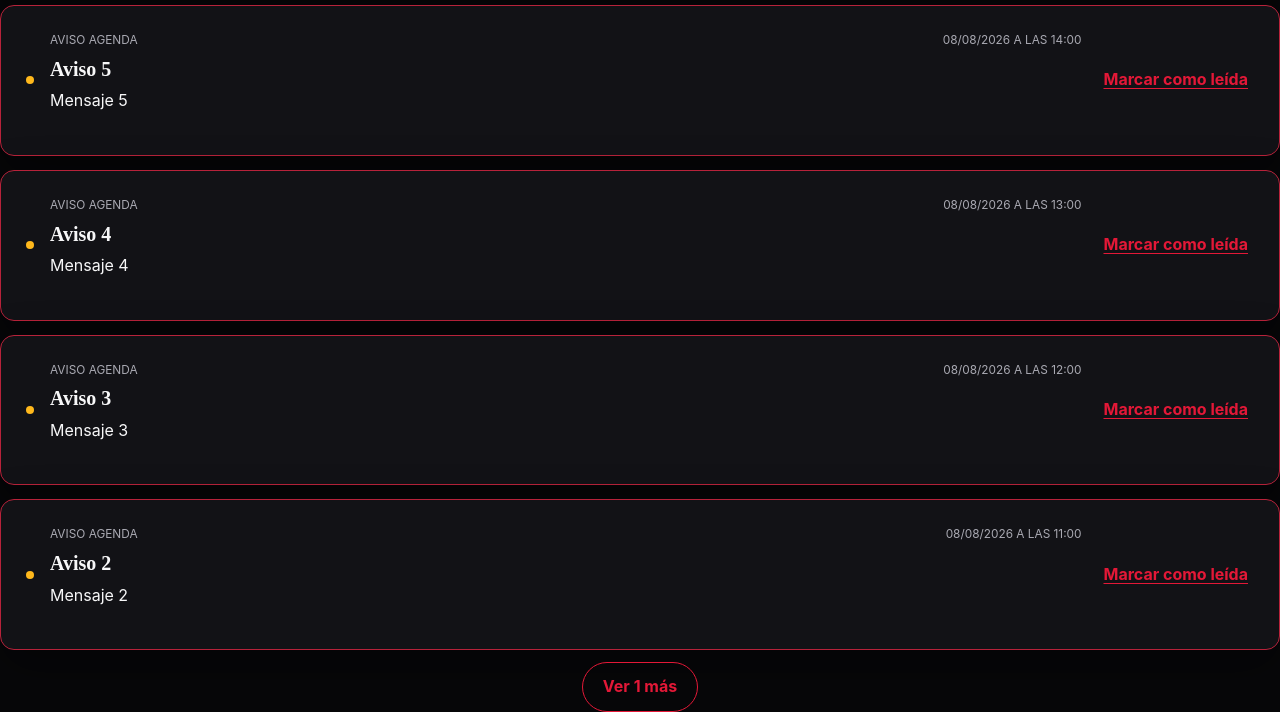
Test: administración › limita cada bloque a cinco notificaciones y permite plegarlo
The image size is (1280, 712).
(page scrolled)
Click the button "Ver 1 más": point(640, 687) [582,662,698,711]
(page scrolled)
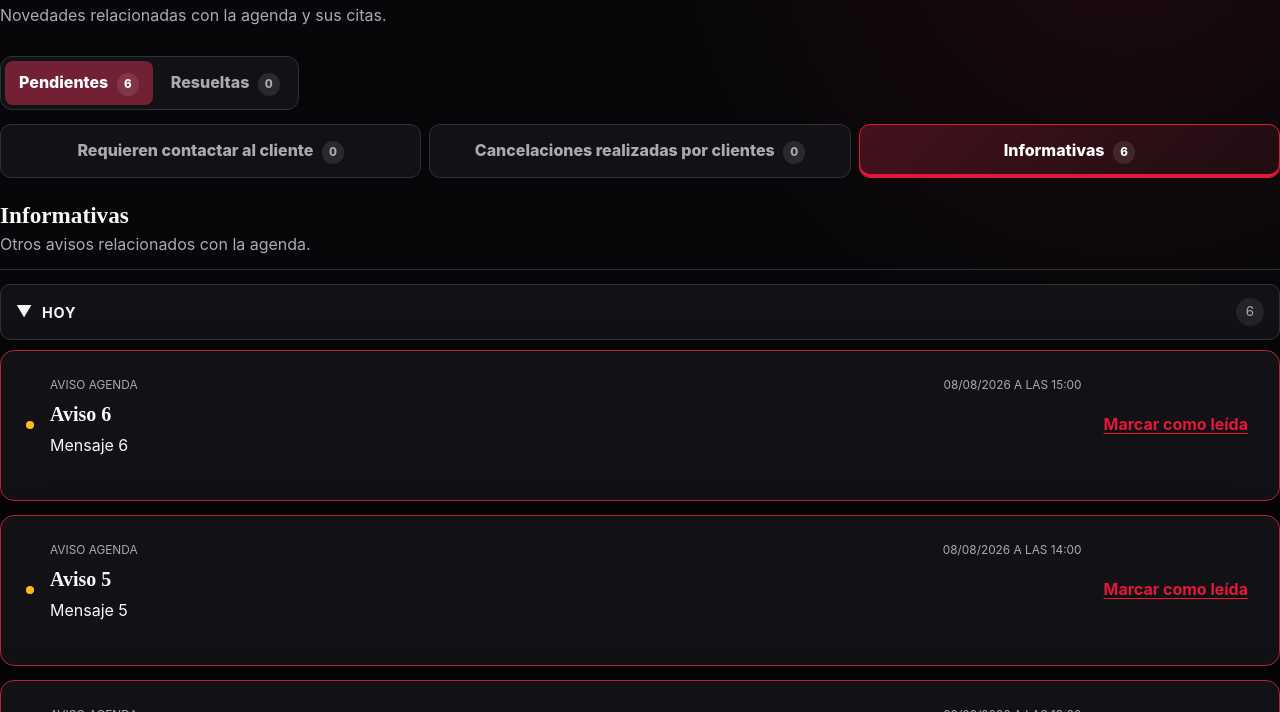
Click the button "▼ Hoy 6": point(59, 312) [0,284,1279,340]
(page scrolled)
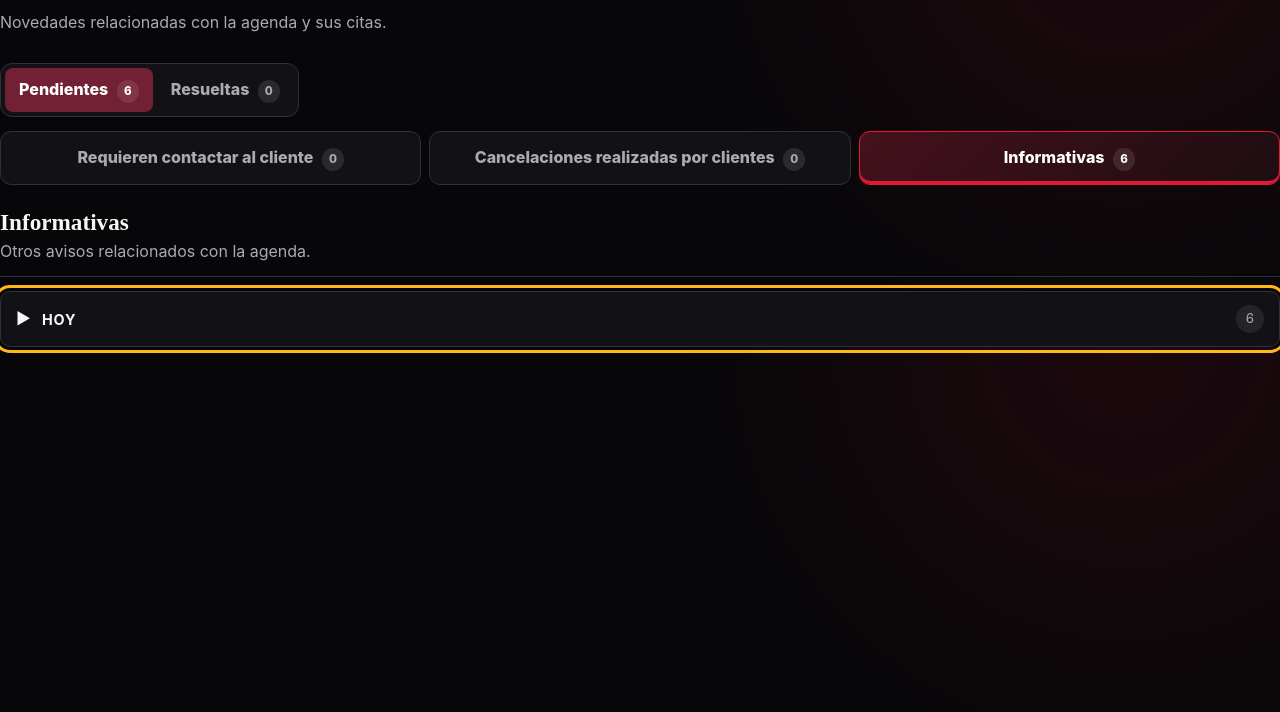
Check: the button "▶ Hoy 6" is collapsed, box [0,292,1279,347]
